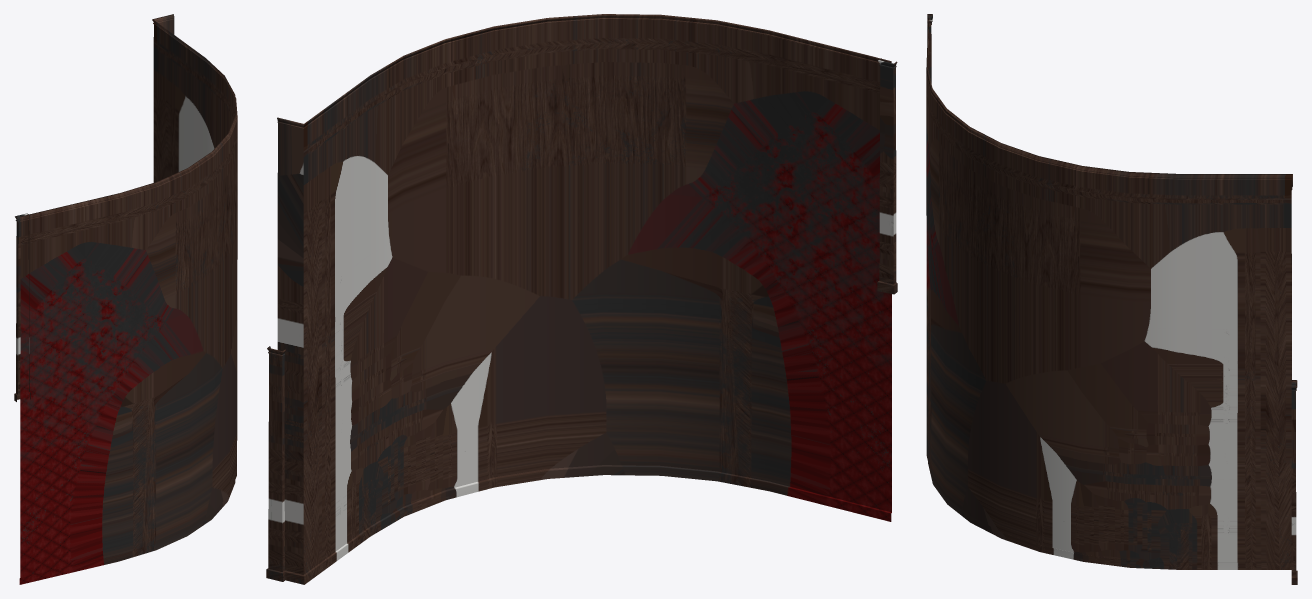
Rendered from Mod_Wall_CurvedStairs_A.fbx.
3 views of the same model, side by side, from view 1: azimuth 30°, elevation 25°; view 2: azimuth 150°, elevation 25°; view 3: azimuth 270°, elevation 25° (orthographic). The views are drawn at different scales.
Parts seen in each view (by area): view 1: Mod_Wall_CurvedStairs_A_low; view 2: Mod_Wall_CurvedStairs_A_low; view 3: Mod_Wall_CurvedStairs_A_low.
Part boxes in pixels (bbox=[...]): Mod_Wall_CurvedStairs_A_low: bbox=[14, 14, 237, 584]; Mod_Wall_CurvedStairs_A_low: bbox=[266, 14, 897, 584]; Mod_Wall_CurvedStairs_A_low: bbox=[926, 14, 1297, 584].
Size of the model in its own units: 1136 by 1200 by 1019.
